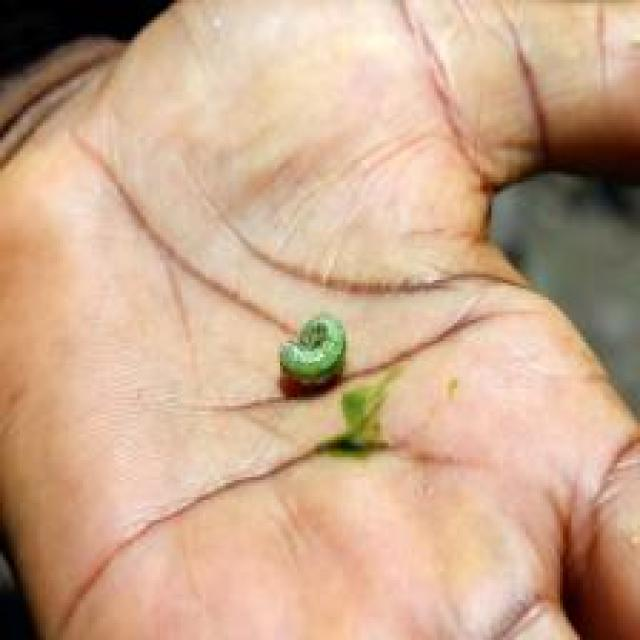Plaga: (273, 307, 358, 407)
